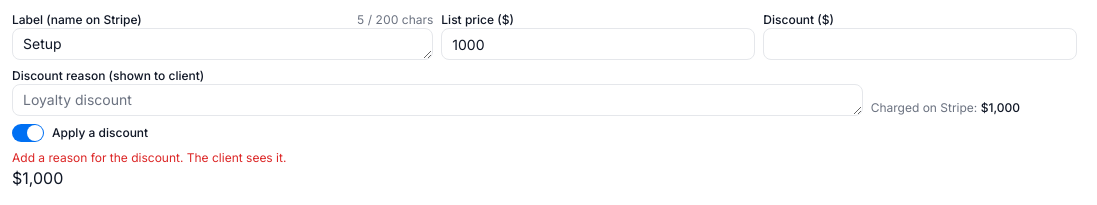
Test case: MoneyFields keeps the cadence on discounted recurring lines (RSL-34) › a discounted one-time net stays cadence-free
This screenshot has width=1097, height=205.
Type "250" into the number field labelled "Discount ($)" at (920, 44), box [763,28,1077,60]
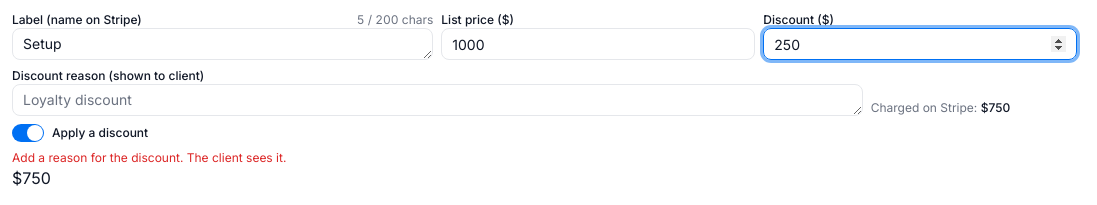
Result: the text with test id "stored" reads "$750" at [12,168,51,188]
